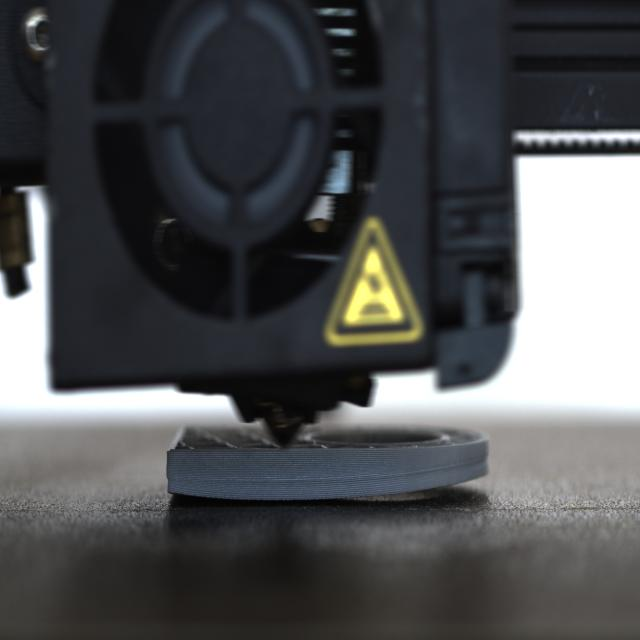Warping: (398, 458, 499, 496)
